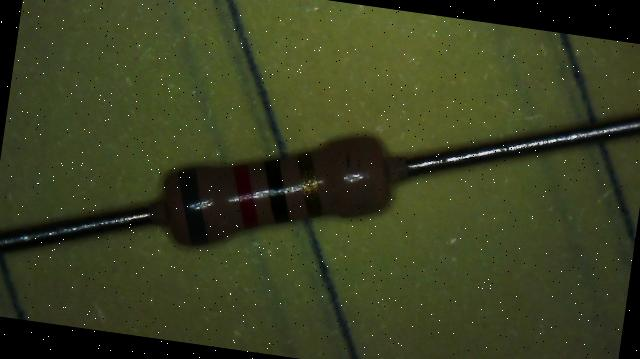black: (256, 156, 296, 224)
gold: (290, 150, 330, 218)
grey: (167, 166, 218, 246)
red: (225, 162, 266, 229)
resistor: (131, 121, 415, 269)
